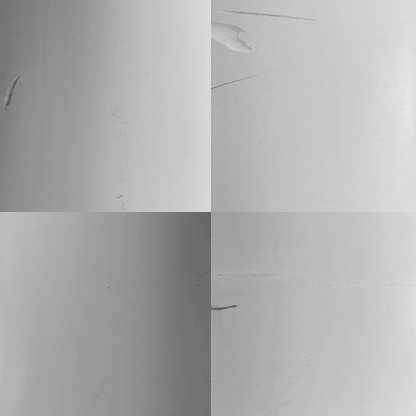fengxi: (4, 73, 19, 111), (210, 301, 241, 312)
sunshang: (208, 22, 254, 55), (210, 69, 260, 94), (225, 10, 321, 20)
